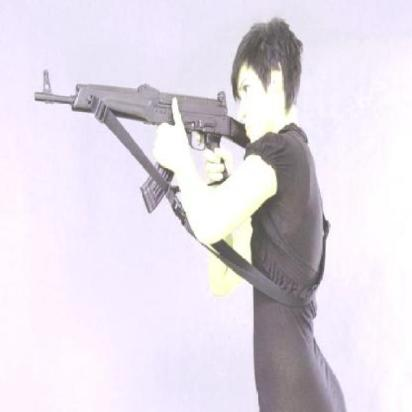Gun: (32, 57, 250, 217)
